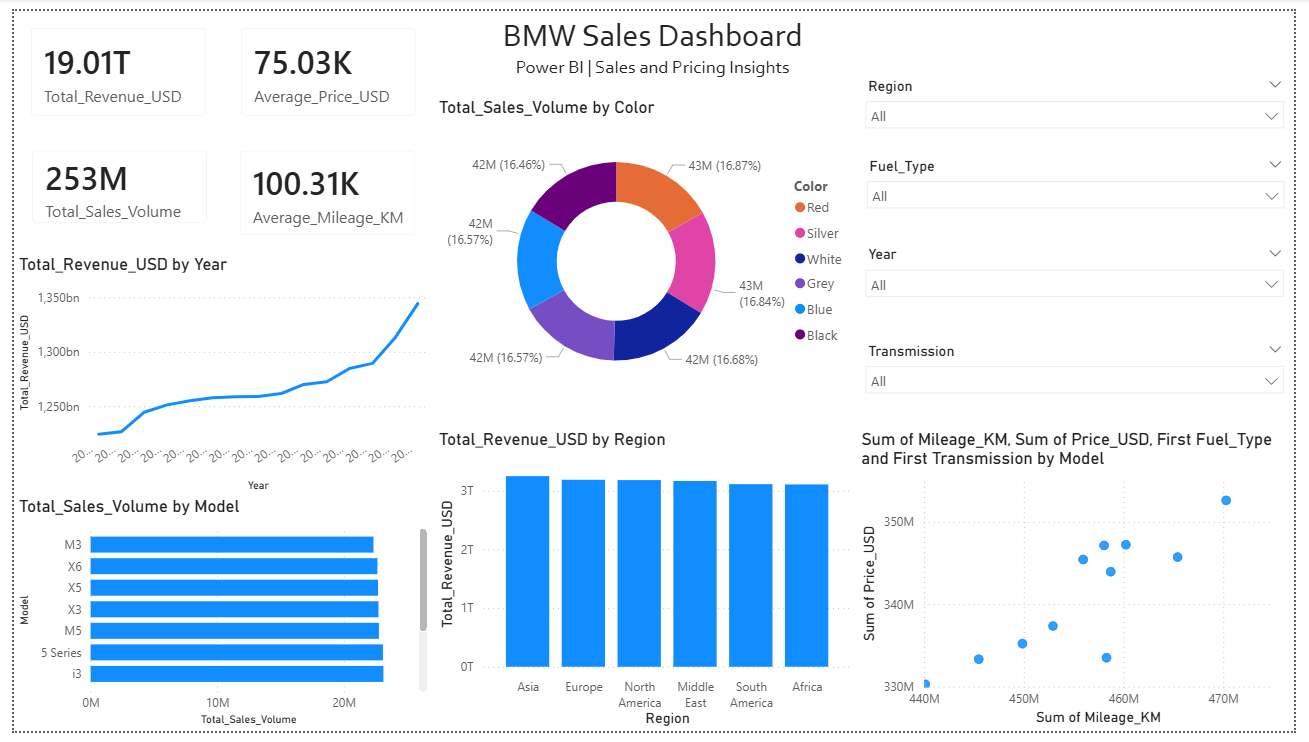

This screenshot's page, from the dashboard's own definition file:
{"tool":"powerbi","page":{"name":"Page 1","canvas":[1280,720],"ordinal":0},"visuals":[{"type":"textbox","box":[436.4,0,404.8,75.5],"z":0},{"type":"cardVisual","fields":{"Data":["BMW_SalesData.Total_Revenue_USD"]},"box":[0,0,209.1,122.3],"z":1},{"type":"cardVisual","fields":{"Data":["BMW_SalesData.Total_Sales_Volume"]},"box":[1.2,122.3,209.1,107.6],"z":2},{"type":"cardVisual","fields":{"Data":["BMW_SalesData.Average_Price_USD"]},"box":[210.3,0,209.1,122.3],"z":3},{"type":"cardVisual","fields":{"Data":["BMW_SalesData.Average_Mileage_KM"]},"box":[209.1,122.3,209.1,119.8],"z":4},{"type":"lineChart","fields":{"Category":["BMW_SalesData.Year"],"Y":["BMW_SalesData.Total_Revenue_USD"]},"box":[0,242.1,418.2,243.3],"z":5},{"type":"clusteredBarChart","fields":{"Category":["BMW_SalesData.Model"],"Y":["BMW_SalesData.Total_Sales_Volume"]},"box":[0,485.5,418.2,234.8],"z":6},{"type":"columnChart","fields":{"Category":["BMW_SalesData.Region"],"Y":["BMW_SalesData.Total_Revenue_USD"]},"box":[419.4,417,423.1,303.3],"z":7},{"type":"scatterChart","fields":{"X":["Sum(BMW_SalesData.Mileage_KM)"],"Y":["Sum(BMW_SalesData.Price_USD)"],"Category":["BMW_SalesData.Model"]},"box":[842.5,417,437.8,302],"z":8},{"type":"slicer","fields":{"Values":["BMW_SalesData.Year"]},"box":[841.3,229.9,439,96.6],"z":9},{"type":"slicer","fields":{"Values":["BMW_SalesData.Region"]},"box":[841.3,61.1,439,80.7],"z":10},{"type":"slicer","fields":{"Values":["BMW_SalesData.Fuel_Type"]},"box":[842.5,141.8,437.8,88],"z":11},{"type":"slicer","fields":{"Values":["BMW_SalesData.Transmission"]},"box":[841.3,326.5,439,90.5],"z":12},{"type":"donutChart","fields":{"Category":["BMW_SalesData.Color"],"Y":["BMW_SalesData.Total_Sales_Volume"]},"box":[418.8,75,422.5,341.2],"z":13}]}

Visuals, with their boxes in screenshot pixels (x1, y1, x2, y2), scaled from the page's 1280x720 canvas onto the 1309x742 screenshot:
textbox: box(446, 0, 860, 78)
cardVisual - BMW_SalesData.Total_Revenue_USD: box(0, 0, 214, 126)
cardVisual - BMW_SalesData.Total_Sales_Volume: box(1, 126, 215, 237)
cardVisual - BMW_SalesData.Average_Price_USD: box(215, 0, 429, 126)
cardVisual - BMW_SalesData.Average_Mileage_KM: box(214, 126, 428, 249)
lineChart - BMW_SalesData.Year x BMW_SalesData.Total_Revenue_USD: box(0, 249, 428, 500)
clusteredBarChart - BMW_SalesData.Model x BMW_SalesData.Total_Sales_Volume: box(0, 500, 428, 741)
columnChart - BMW_SalesData.Region x BMW_SalesData.Total_Revenue_USD: box(429, 430, 862, 741)
scatterChart - Sum(BMW_SalesData.Mileage_KM) x Sum(BMW_SalesData.Price_USD): box(862, 430, 1308, 741)
slicer - BMW_SalesData.Year: box(860, 237, 1308, 336)
slicer - BMW_SalesData.Region: box(860, 63, 1308, 146)
slicer - BMW_SalesData.Fuel_Type: box(862, 146, 1308, 237)
slicer - BMW_SalesData.Transmission: box(860, 336, 1308, 430)
donutChart - BMW_SalesData.Color x BMW_SalesData.Total_Sales_Volume: box(428, 77, 860, 429)
